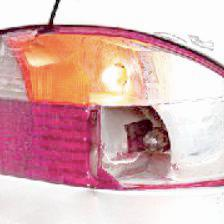tail_lamp: (15, 5, 223, 220)
